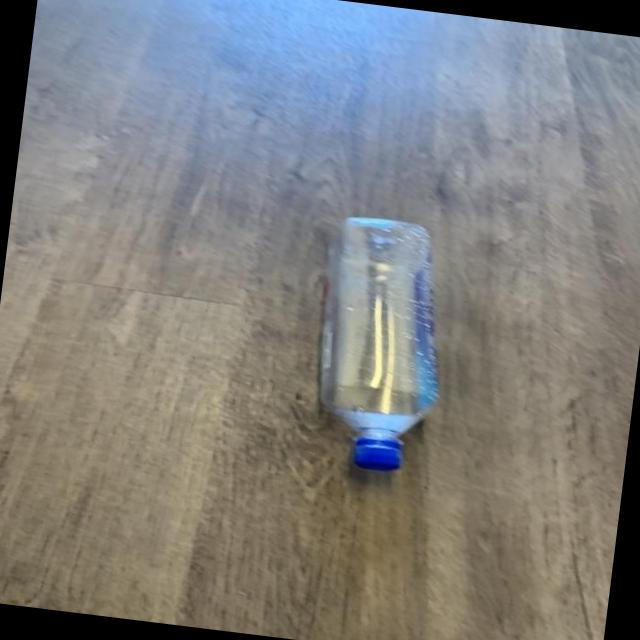plastic_bottle: (300, 212, 460, 478)
